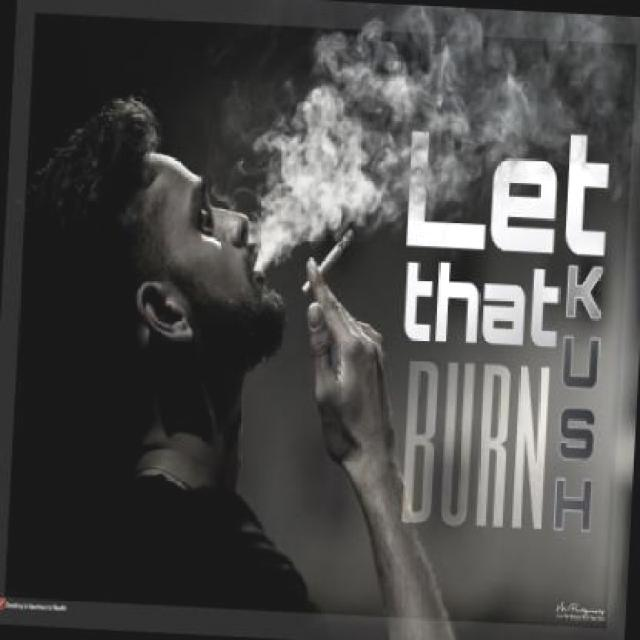smoke: (300, 226, 354, 297)
